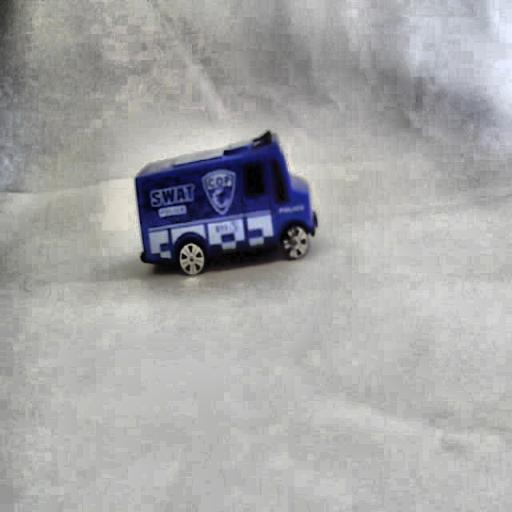police car: (128, 127, 321, 284)
